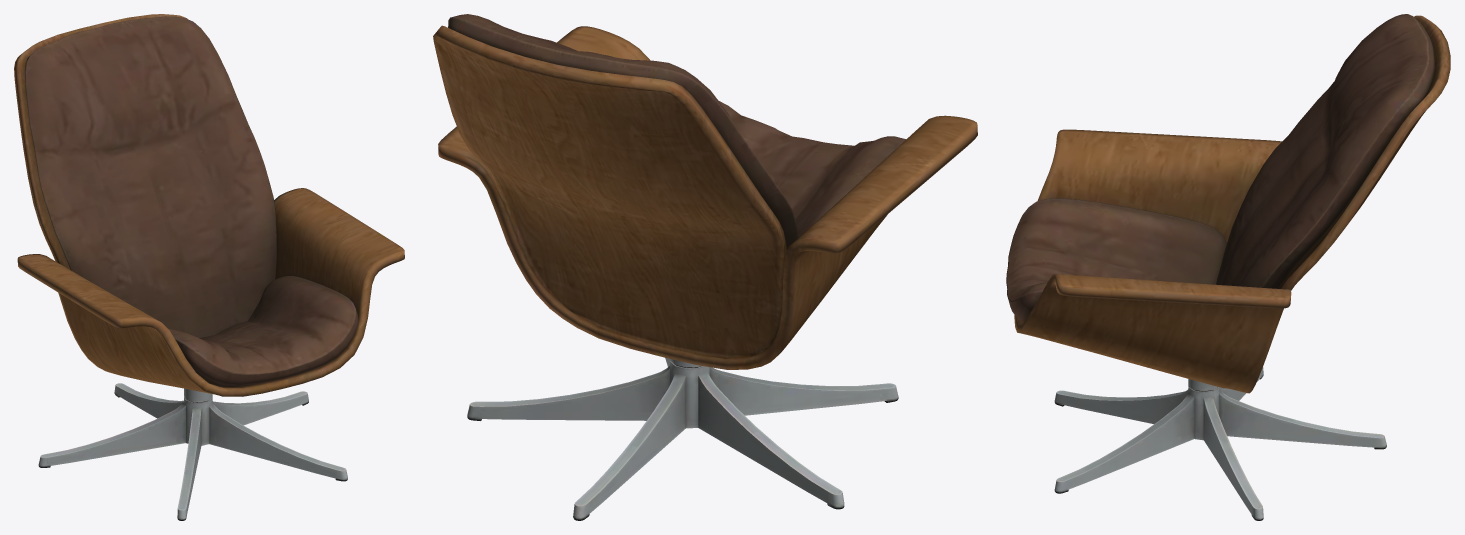
The model's file is mid_century_lounge_chair.glb.
3 views of the same model, side by side, from view 1: azimuth 30°, elevation 25°; view 2: azimuth 150°, elevation 25°; view 3: azimuth 270°, elevation 25° (orthographic). The views are drawn at different scales.
Parts seen in each view (by area): view 1: mid_century_lounge_chair; view 2: mid_century_lounge_chair; view 3: mid_century_lounge_chair.
Part boxes in pixels (x1=…): mid_century_lounge_chair: x1=14, y1=14, x2=404, y2=520; mid_century_lounge_chair: x1=433, y1=14, x2=977, y2=520; mid_century_lounge_chair: x1=1006, y1=14, x2=1450, y2=520.
Bounding box in the file's own units: 1.01 × 1.17 × 1.19.
1 material, 1 textured.
